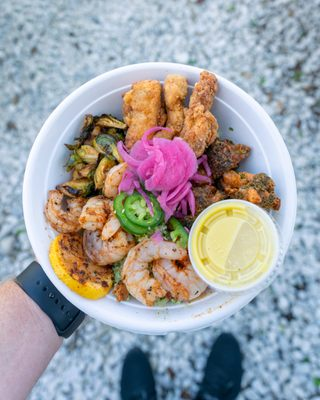sushi: (9, 60, 301, 400), (189, 199, 280, 292)
